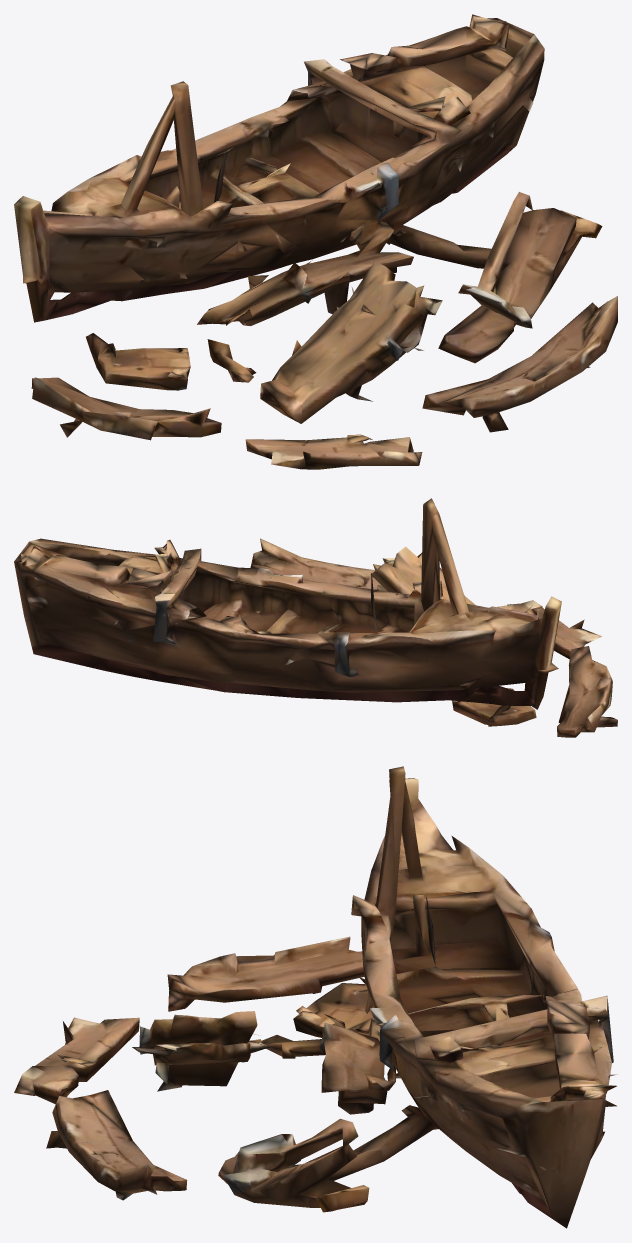
The model's file is deb_hull.glb.
3 renders of one model, top to bottom at view 1: azimuth 30°, elevation 25°; view 2: azimuth 150°, elevation 25°; view 3: azimuth 270°, elevation 25°, orthographic. The views are drawn at different scales.
Parts seen in each view (by area): view 1: tripo_node_5e9b21d4-6b88-45d4-b15b-c4930a8ceca0; view 2: tripo_node_5e9b21d4-6b88-45d4-b15b-c4930a8ceca0; view 3: tripo_node_5e9b21d4-6b88-45d4-b15b-c4930a8ceca0.
Part boxes in pixels (x1,y1,x2,y2): tripo_node_5e9b21d4-6b88-45d4-b15b-c4930a8ceca0: (14,14,617,469); tripo_node_5e9b21d4-6b88-45d4-b15b-c4930a8ceca0: (14,498,617,737); tripo_node_5e9b21d4-6b88-45d4-b15b-c4930a8ceca0: (14,766,617,1228).
Bounding box in the file's own units: 0.9943 × 0.4362 × 0.8025.
Materials: 1 (1 with a texture image).
